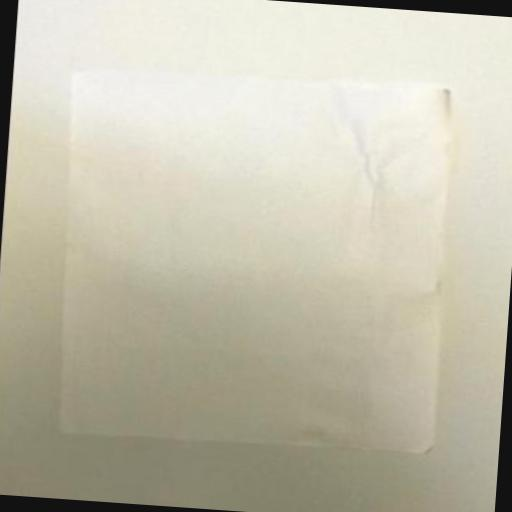paper: (48, 61, 457, 456)
